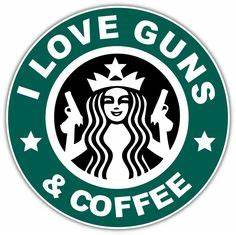starbucks Fake: (5, 1, 231, 232)
